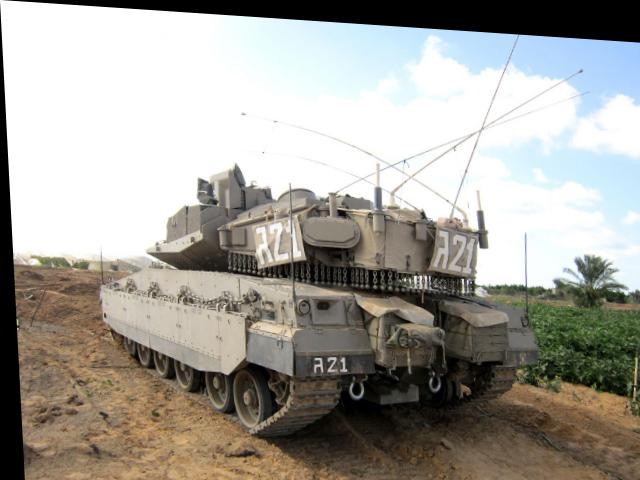tank: (102, 176, 544, 445)
